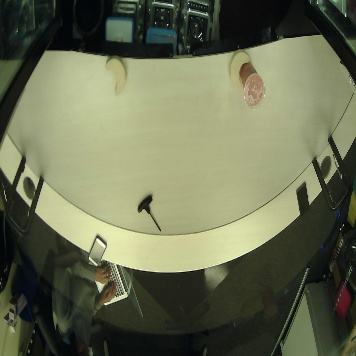full_cup: (239, 63, 267, 111)
puck: (223, 47, 255, 86), (104, 55, 127, 95)
